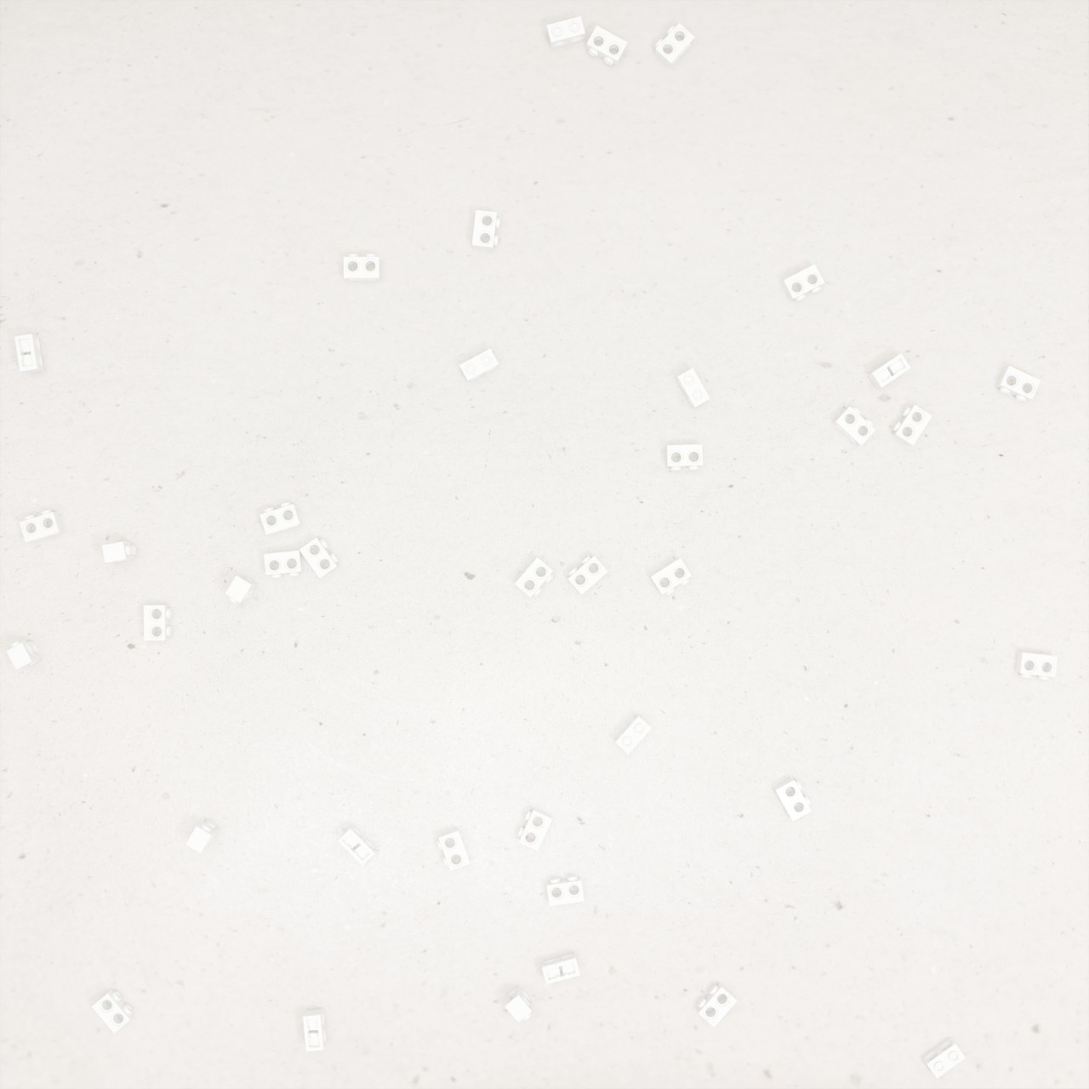lego: (91, 988, 135, 1034), (697, 982, 738, 1028), (654, 23, 695, 69), (922, 1037, 966, 1079), (832, 406, 876, 447), (586, 25, 628, 66), (892, 405, 933, 447), (773, 777, 811, 821), (781, 264, 825, 302), (995, 366, 1041, 402), (514, 557, 554, 598), (337, 825, 377, 866), (867, 353, 911, 390), (568, 555, 608, 595), (299, 538, 339, 578), (650, 558, 692, 596), (517, 807, 553, 851), (614, 714, 652, 754), (437, 827, 471, 871), (19, 510, 65, 542), (260, 502, 303, 535), (459, 348, 499, 383), (676, 368, 710, 409), (547, 16, 585, 49), (542, 953, 581, 985), (1015, 651, 1058, 680), (14, 334, 44, 374), (6, 639, 44, 670), (185, 820, 219, 854), (472, 210, 500, 251), (547, 875, 584, 906), (264, 550, 304, 578), (303, 1008, 327, 1052), (505, 985, 532, 1023), (144, 605, 172, 641), (344, 254, 381, 281), (666, 444, 703, 471), (225, 575, 258, 604), (102, 542, 137, 563)
